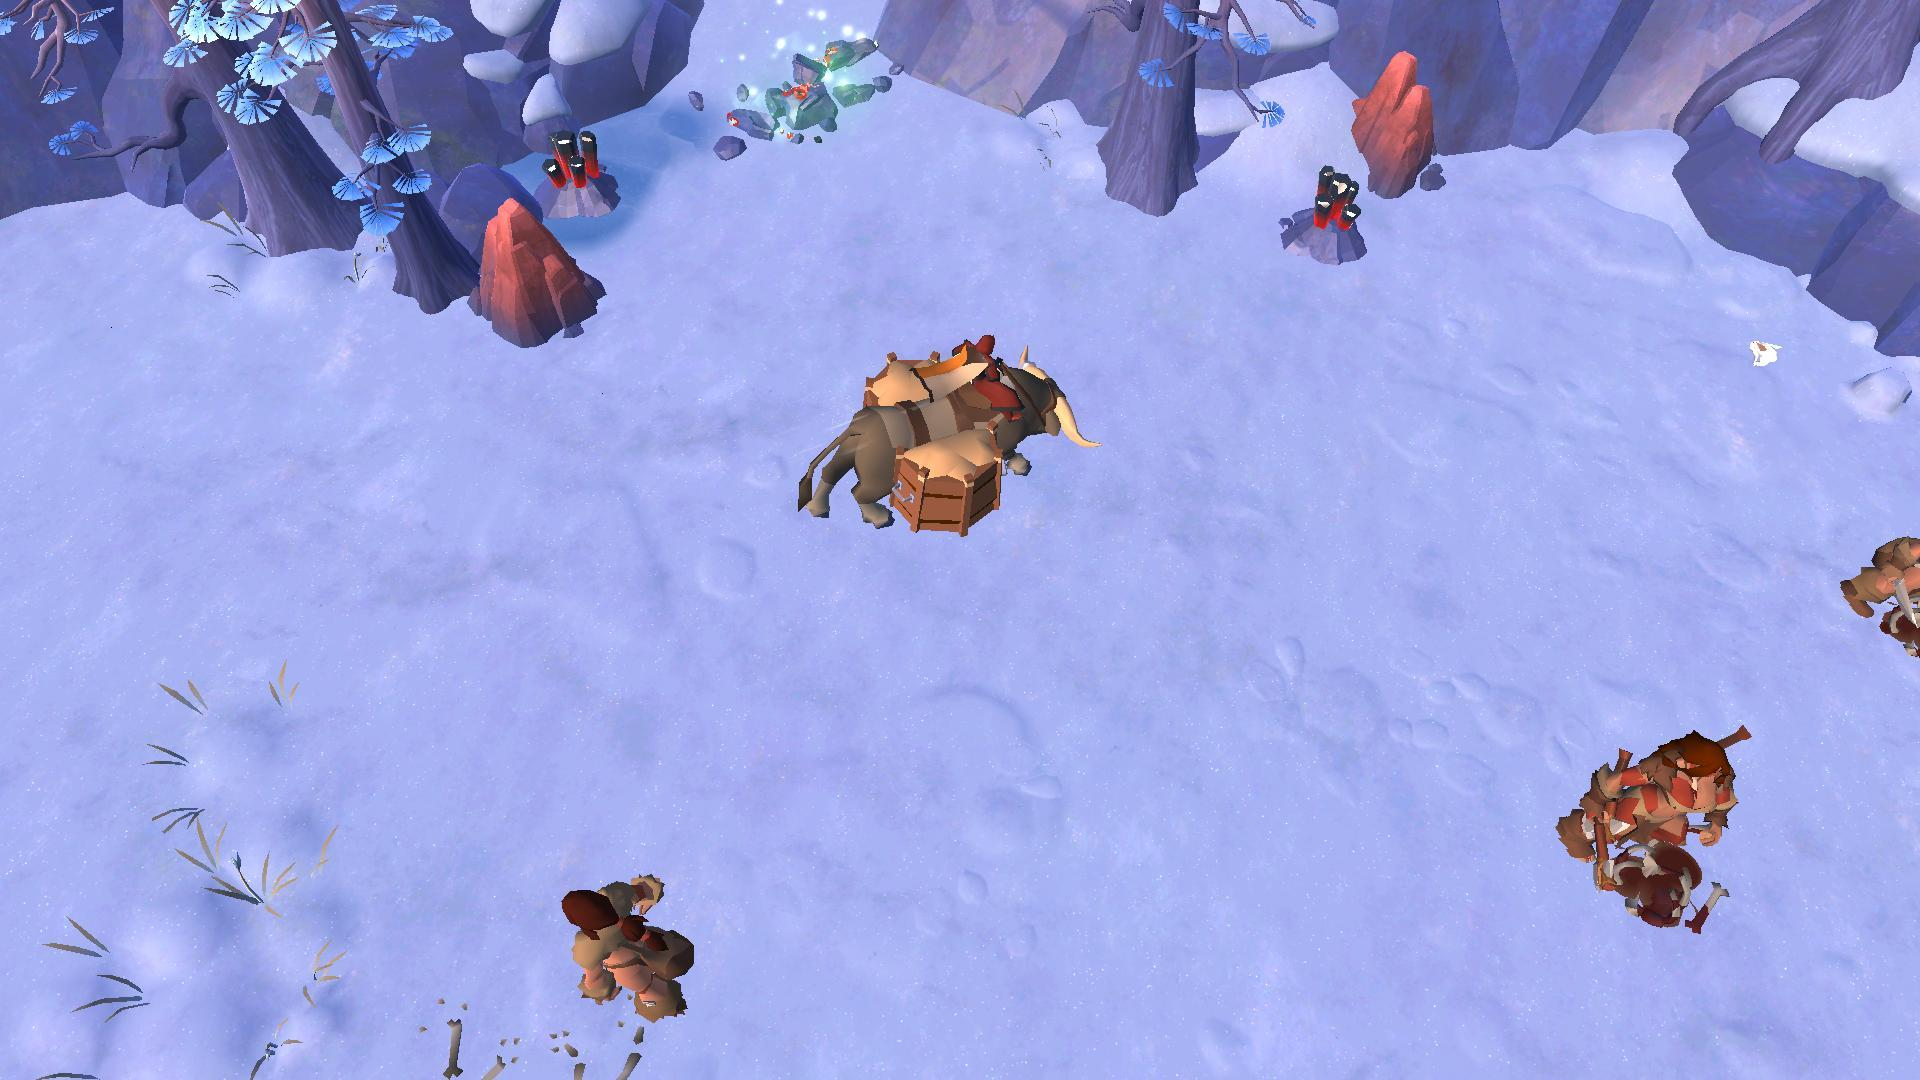enemy_factionKeeper: (1556, 716, 1735, 898), (539, 874, 702, 1027), (1834, 529, 1920, 620)
ore_t5: (539, 123, 604, 194), (1307, 157, 1362, 235)
rock_t5: (472, 199, 605, 348), (1348, 57, 1444, 204)
